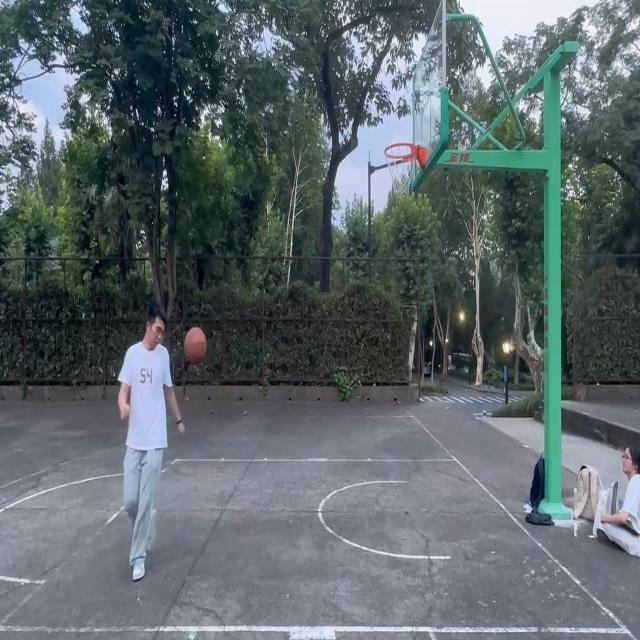basketball: (382, 143, 430, 197)
rim: (183, 328, 206, 365)
